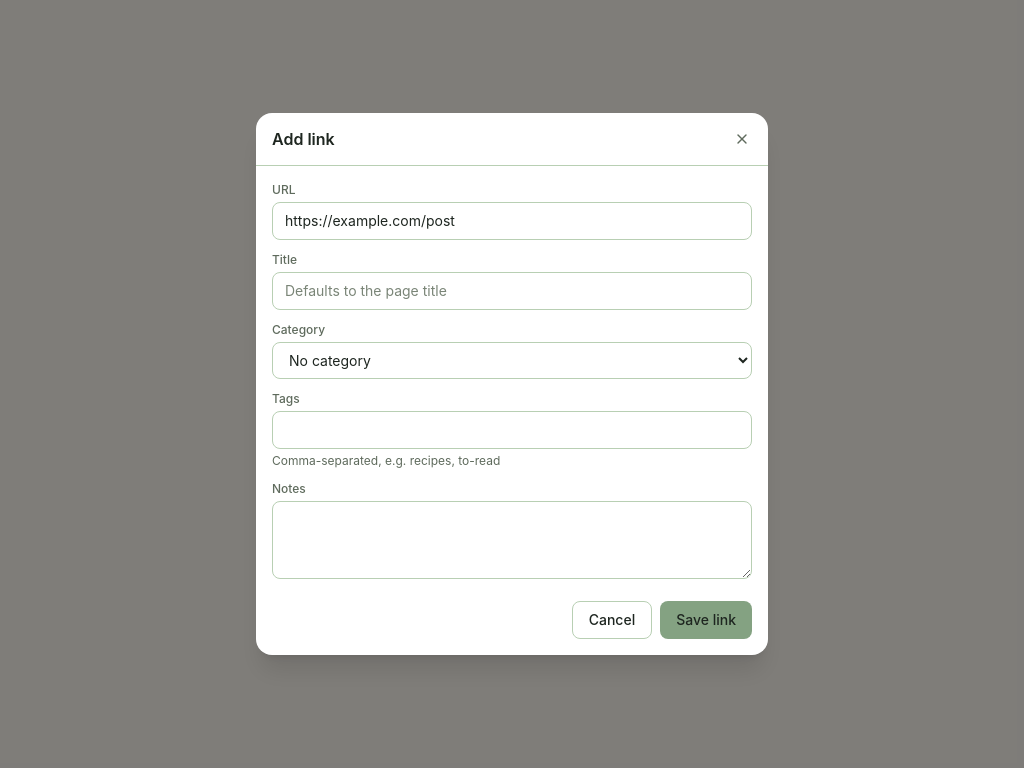
Test: LinkSheet › switches to editing when the link is already saved
What coordinates should you click on to do the following:
click the button "Save link"
I would click on:
 (706, 620)
Its box is [660, 601, 752, 639].
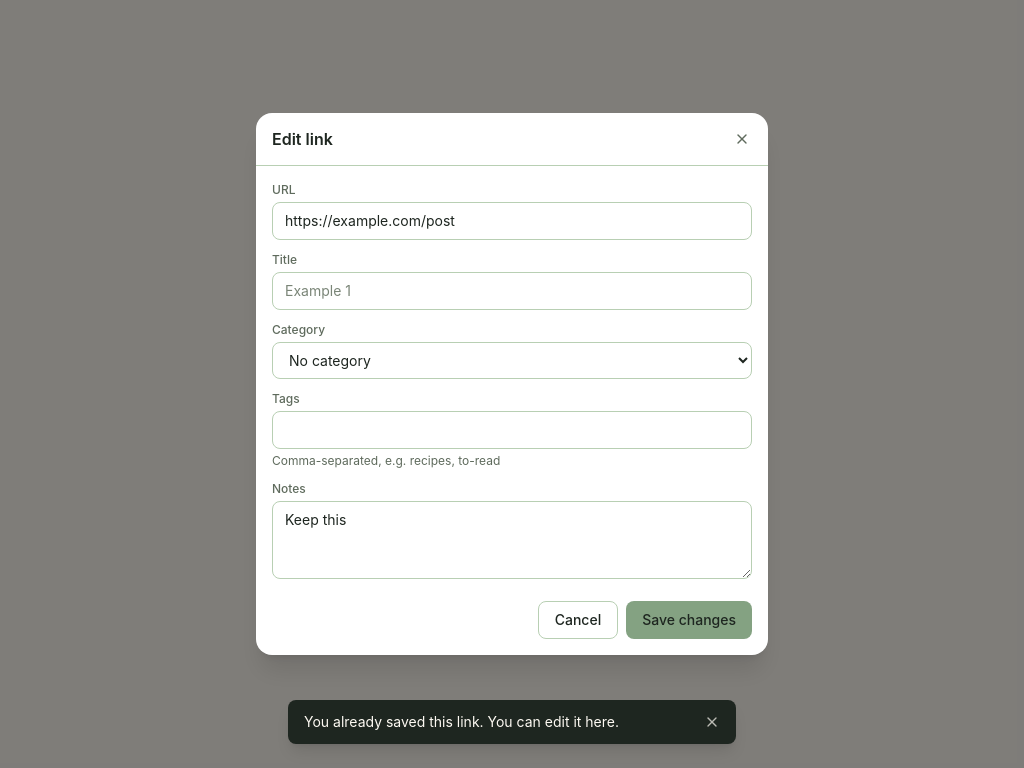
Check: the dialog "Edit link" is shown, box [256, 113, 768, 655]
Check: the text box labelled "Notes" holds "Keep this", box [272, 501, 752, 579]
Check: the message shows "already saved", box [304, 713, 619, 730]
